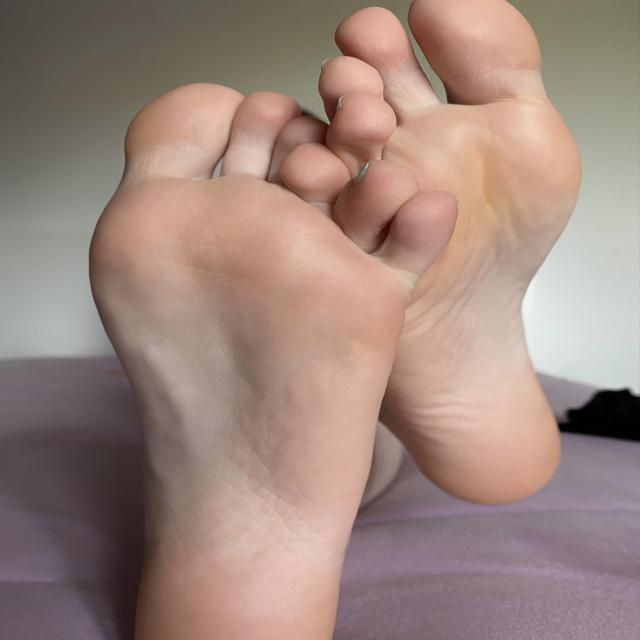Barefoots: (80, 72, 469, 640), (298, 0, 586, 515)
